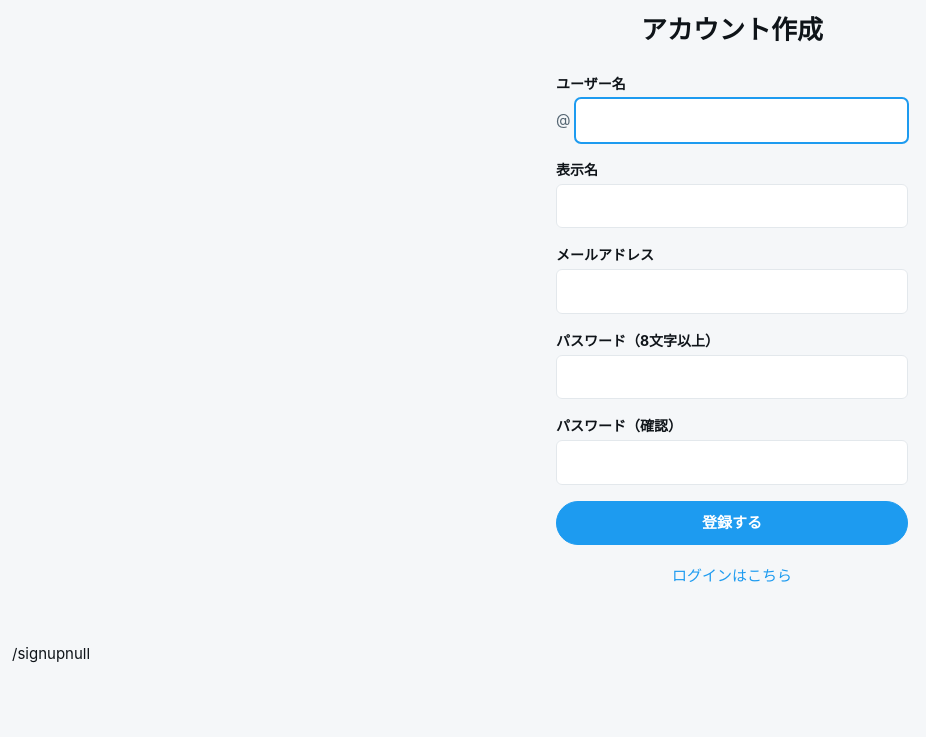
Test: SignupPage：新規登録 › 項目に結び付かない失敗は、上にまとめて出す
This screenshot has width=926, height=737.
Type "alice_01" into the field labelled "ユーザー名".
click(741, 120); type("alice_01")  # box left=574, top=98, right=908, bottom=142
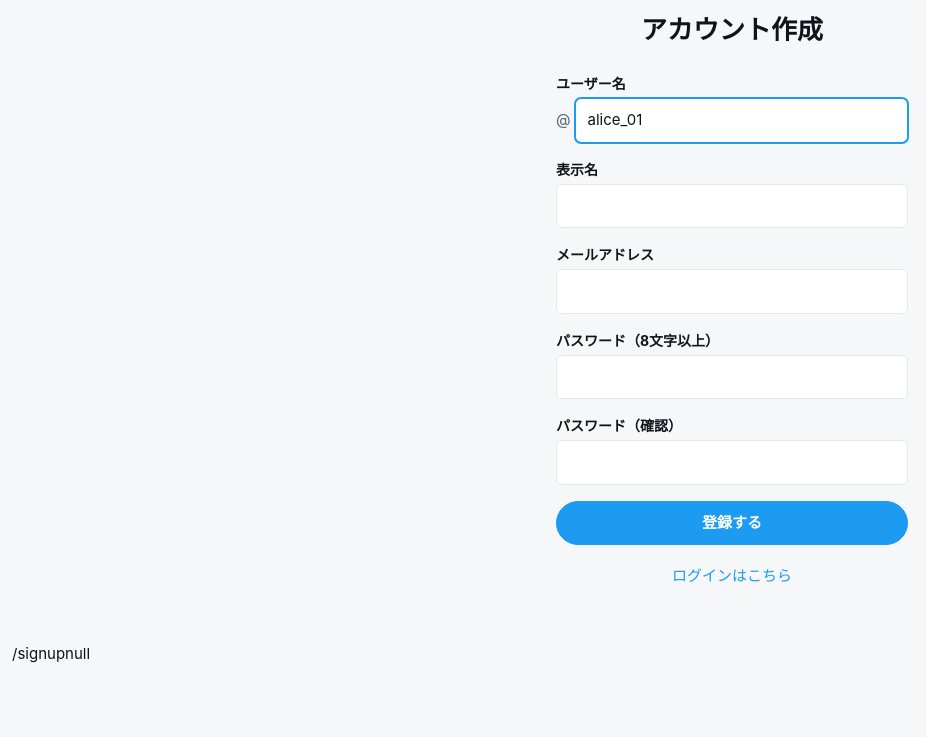
Type "アリス" into the field labelled "表示名".
click(732, 206); type("アリス")  # box left=556, top=184, right=908, bottom=228
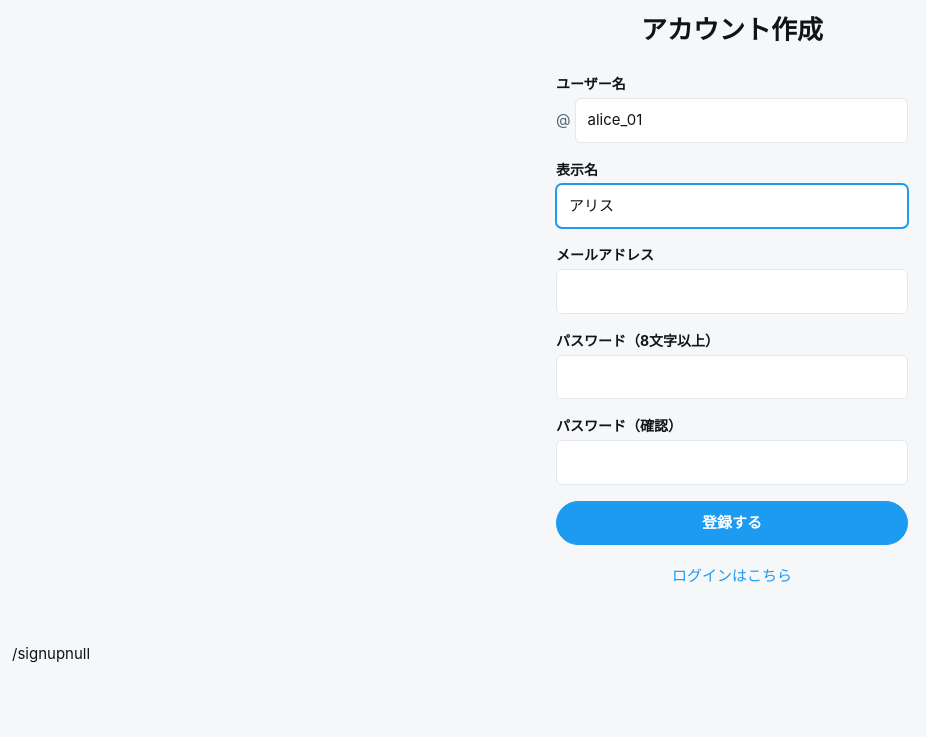
Type "alice@example.com" into the field labelled "メールアドレス".
click(732, 291); type("alice@example.com")  # box left=556, top=269, right=908, bottom=314
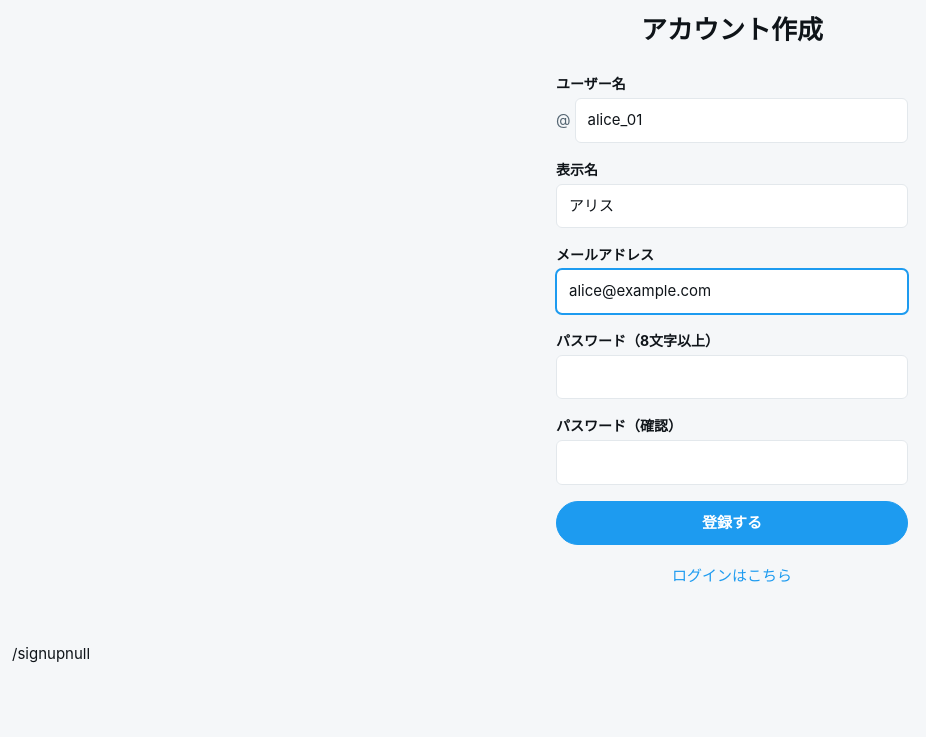
Type "password123" into the password field labelled "パスワード（8文字以上）".
click(732, 377); type("password123")  # box left=556, top=354, right=908, bottom=399
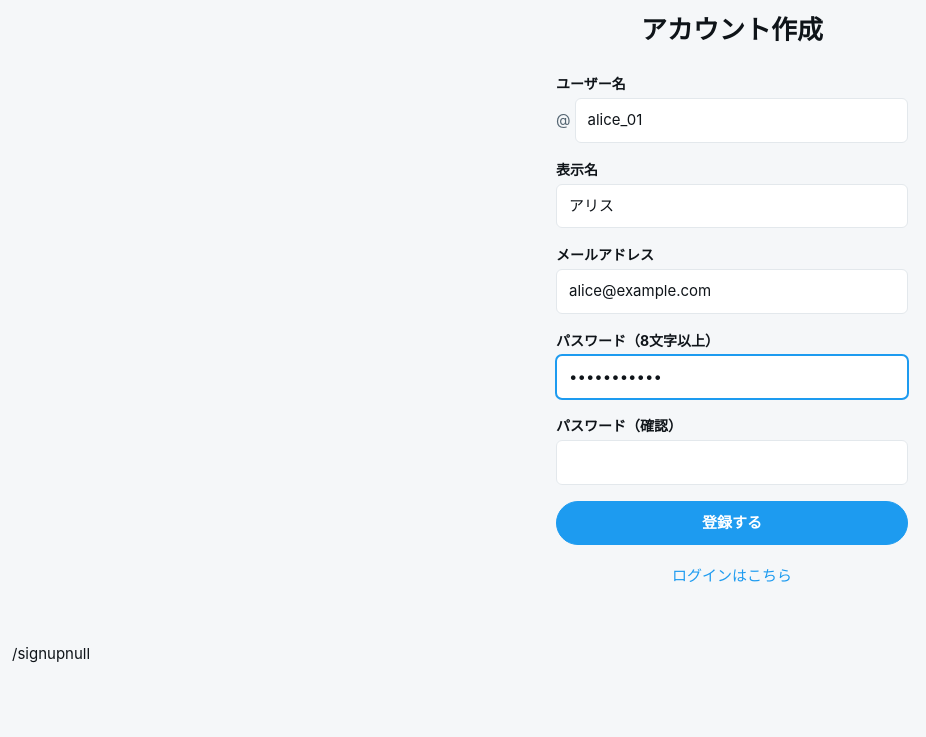
Type "password123" into the password field labelled "パスワード（確認）".
click(732, 462); type("password123")  # box left=556, top=440, right=908, bottom=484
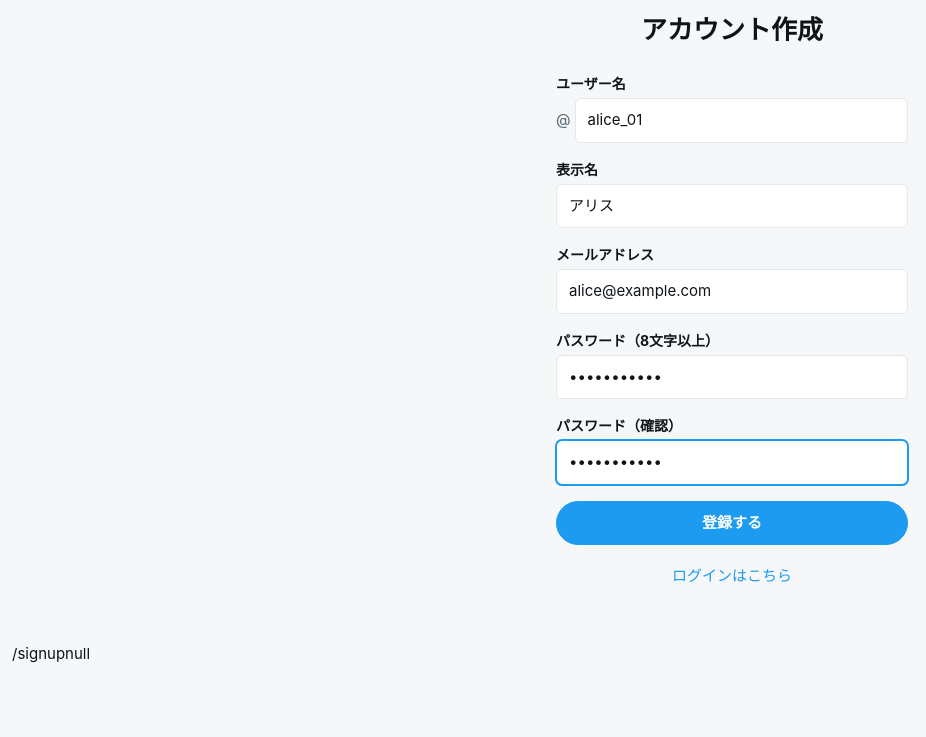
Click the button "登録する".
click(732, 523)  # box left=556, top=500, right=908, bottom=545
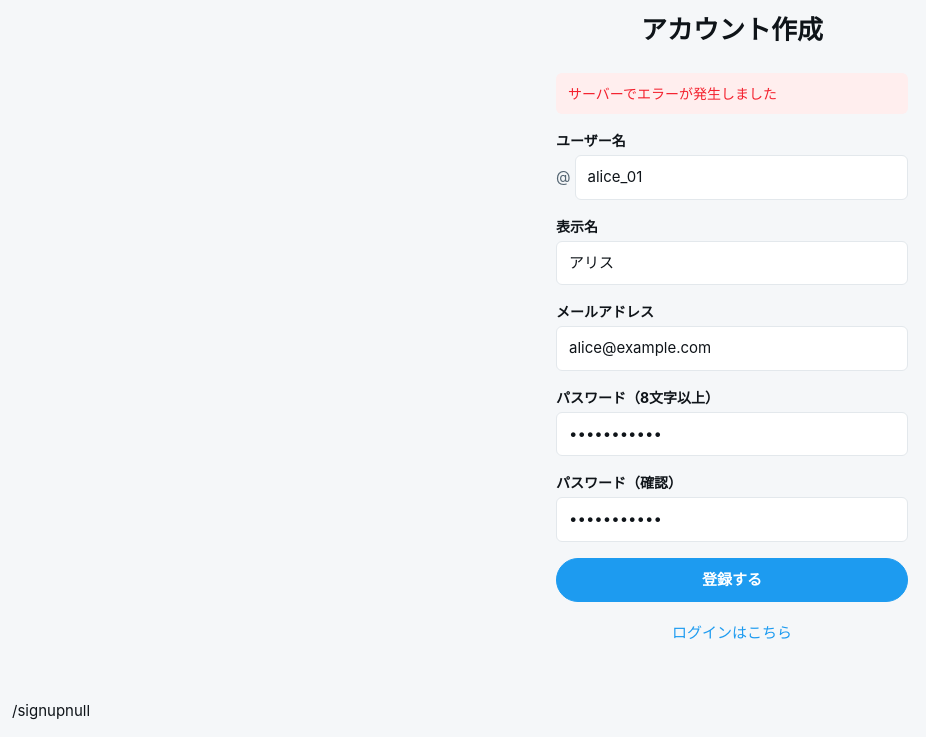
Check: the message reads "サーバーでエラーが発生しました", box left=568, top=85, right=777, bottom=102
